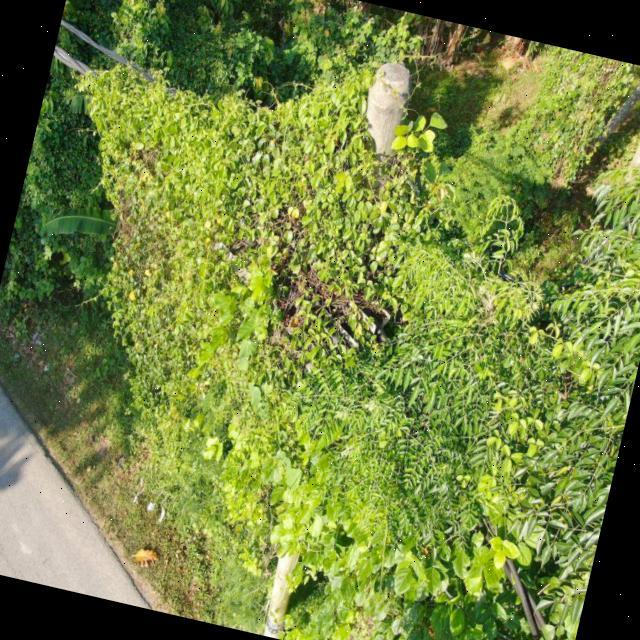critical vegetation: (0, 0, 637, 578)
